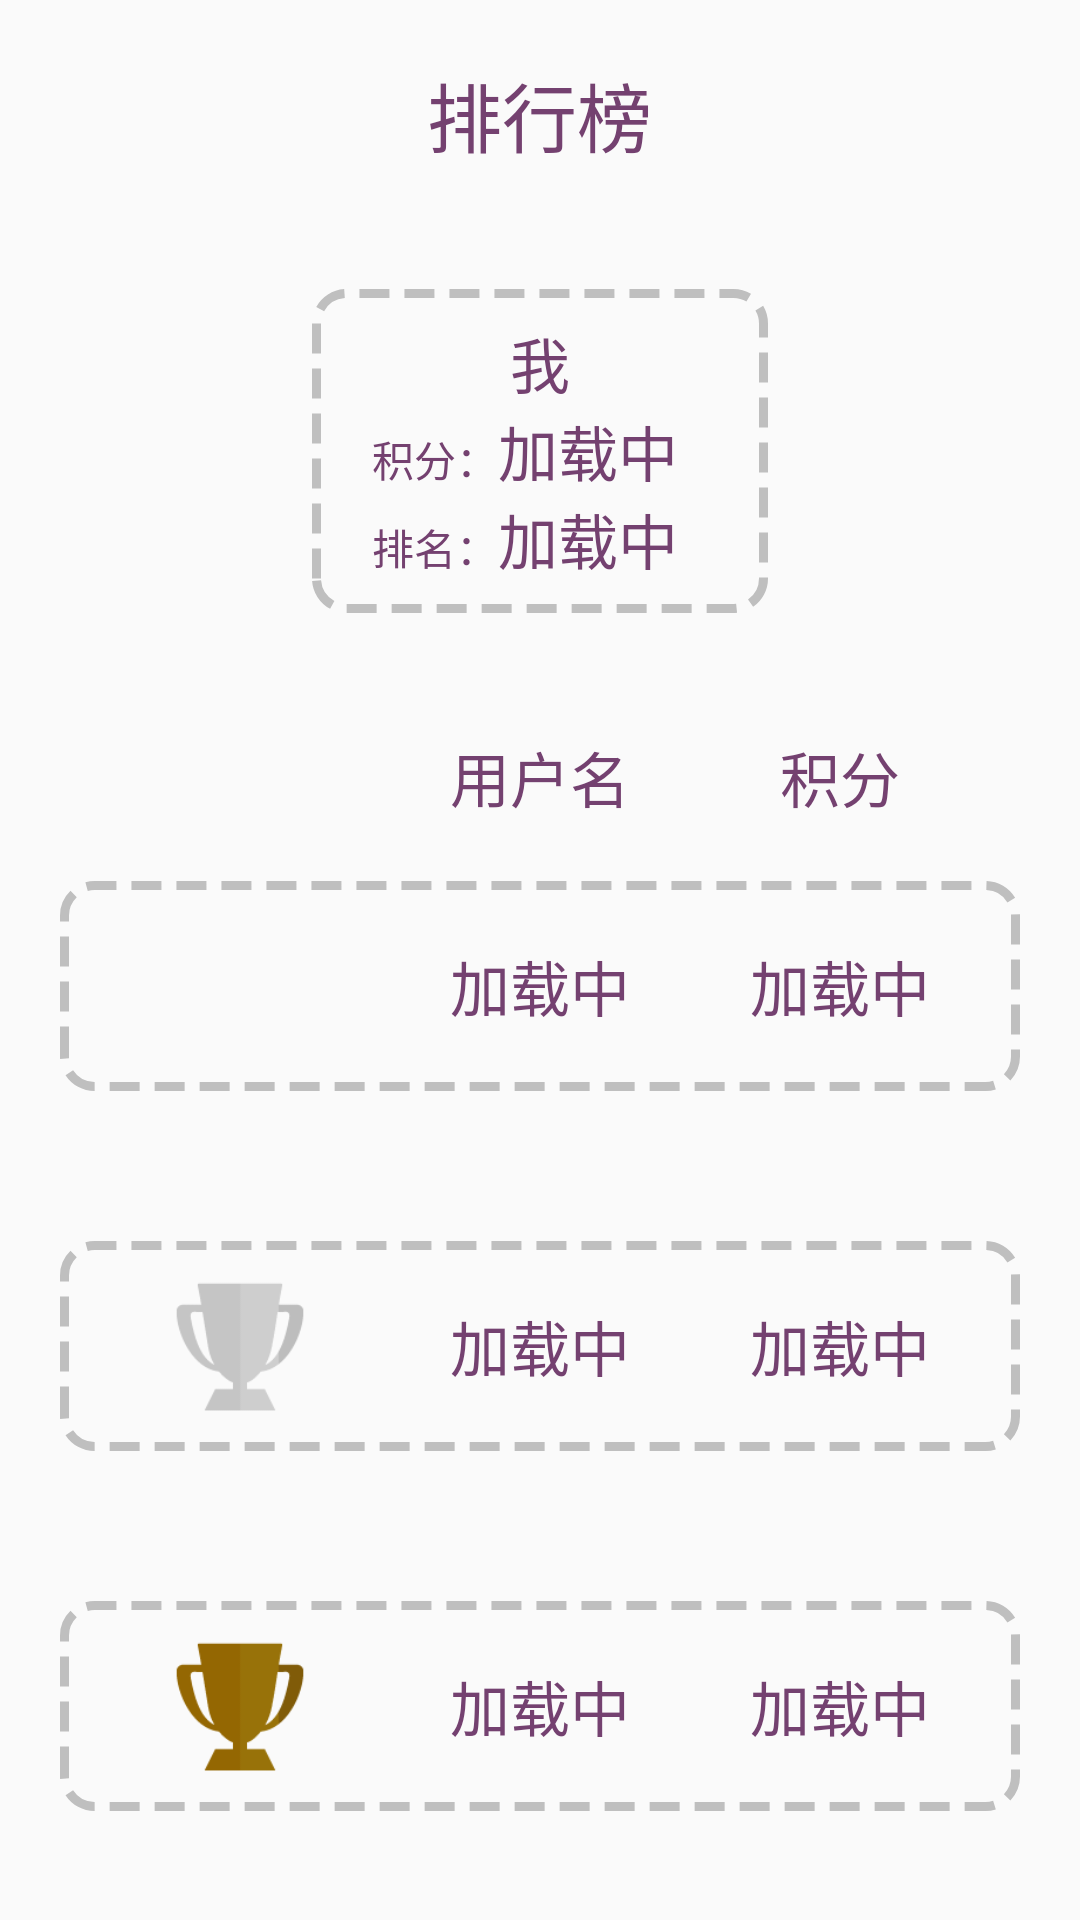

Named icons in this screenshot (1080px×1920px) and their centers, (x,y):
trophy bronze: (240,1707)
trophy silver: (240,1347)
